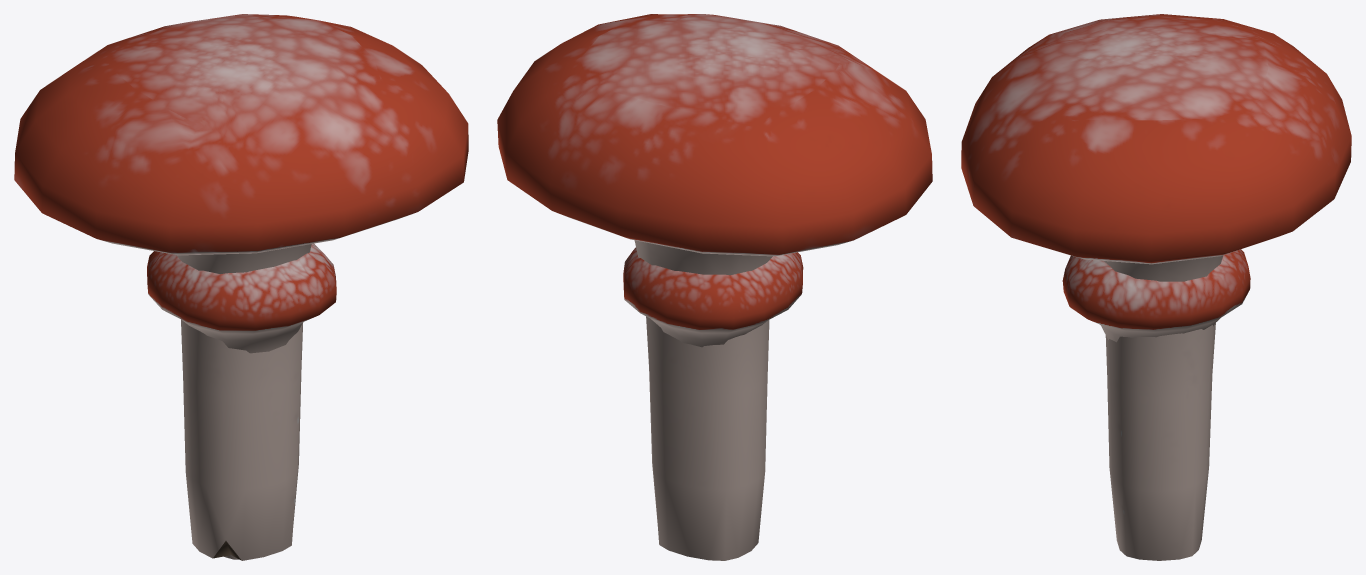
File: ToadStools.fbx
3 views of the same model, side by side, from view 1: azimuth 30°, elevation 25°; view 2: azimuth 150°, elevation 25°; view 3: azimuth 270°, elevation 25° (orthographic).
Parts seen in each view (by area): view 1: Toadstool_big, toadStool_little; view 2: Toadstool_big, toadStool_little; view 3: Toadstool_big, toadStool_little.
Boxes of the visible parts, x1=… form: Toadstool_big: x1=14, y1=14, x2=468, y2=560; toadStool_little: x1=147, y1=243, x2=336, y2=559; Toadstool_big: x1=497, y1=14, x2=932, y2=560; toadStool_little: x1=623, y1=247, x2=803, y2=347; Toadstool_big: x1=961, y1=14, x2=1351, y2=560; toadStool_little: x1=1062, y1=249, x2=1250, y2=342.
Bounding box in the file's own units: 60.98 × 73.44 × 53.22.
Materials: 1 (1 with a texture image).
